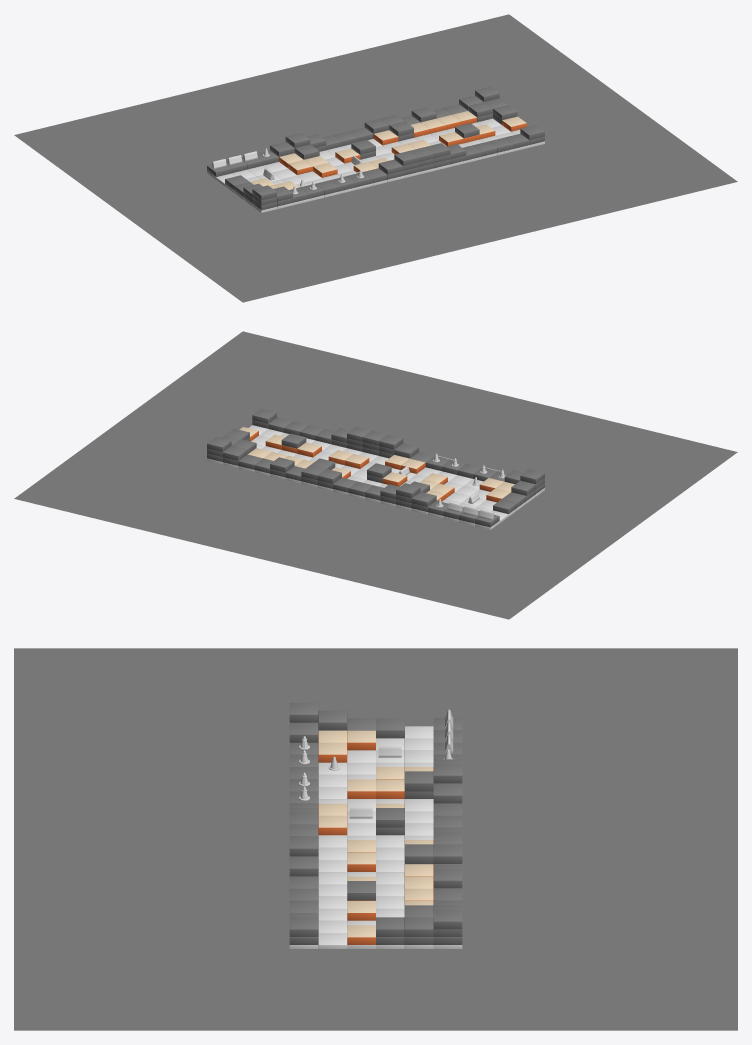
The model's file is Test_Dummy_Stage_18x6.fbx.
3 renders of one model, top to bottom at view 1: azimuth 30°, elevation 25°; view 2: azimuth 150°, elevation 25°; view 3: azimuth 270°, elevation 25°, orthographic. The views are drawn at different scales.
Parts seen in each view (by area): view 1: Ground_Plane_001; view 2: Ground_Plane_001; view 3: Ground_Plane_001, Test_Ground_Bk_053, Test_Ground_Bk_073, Test_Ground_Bk_078, Test_Ground_Bk_148, Test_Ground_Bk_079, Test_Ground_Bk_100, Test_Ground_Bk_146, Test_Ground_Bk_149, Test_Ground_Bk_152, Test_Ground_Bk_154.
Part boxes in pixels (<box>): Ground_Plane_001: <box>14,14,737,302</box>; Ground_Plane_001: <box>14,331,737,619</box>; Ground_Plane_001: <box>14,648,737,1030</box>; Test_Ground_Bk_053: <box>318,815,347,835</box>; Test_Ground_Bk_073: <box>318,710,347,730</box>; Test_Ground_Bk_078: <box>404,771,433,791</box>; Test_Ground_Bk_148: <box>289,702,318,722</box>; Test_Ground_Bk_079: <box>433,783,462,803</box>; Test_Ground_Bk_100: <box>433,868,462,888</box>; Test_Ground_Bk_146: <box>289,856,318,876</box>; Test_Ground_Bk_149: <box>433,763,462,783</box>; Test_Ground_Bk_152: <box>433,909,462,929</box>; Test_Ground_Bk_154: <box>289,836,318,856</box>.
Bounding box in the file's own units: 3142 × 120 × 2515.
